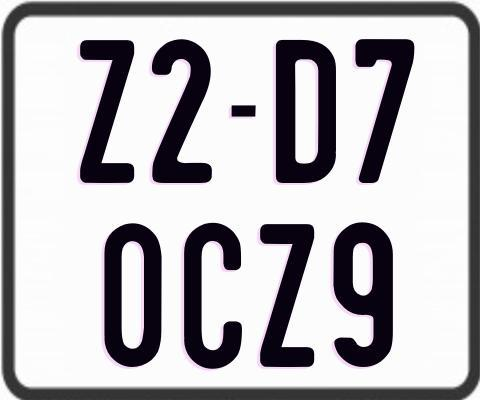0: (104, 220, 166, 369)
2: (149, 36, 210, 182)
7: (355, 37, 417, 181)
9: (330, 219, 393, 369)
C: (184, 223, 245, 373)
D: (274, 40, 335, 188)
Z: (80, 39, 139, 186), (257, 224, 316, 369)
